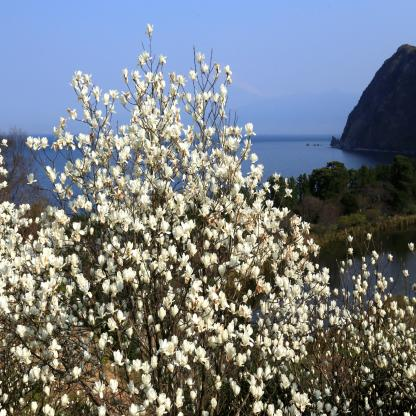Mokuren: (0, 24, 331, 416), (331, 231, 416, 416)
